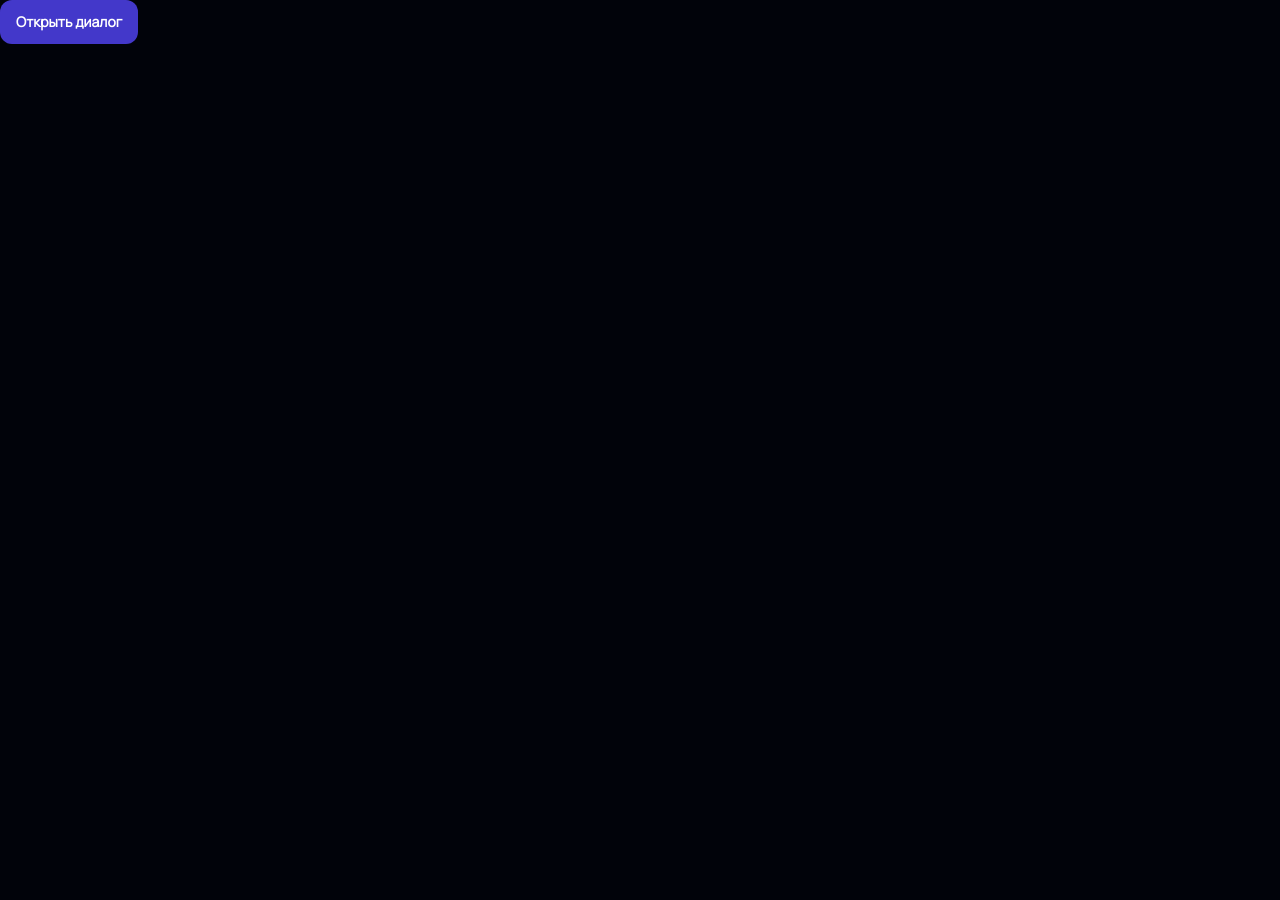
Test: Glowy primitive overlays and selection › closes a controlled dialog with Escape and returns focus to its trigger
Click the button "Открыть диалог" at (69, 22), box [0, 0, 138, 44]
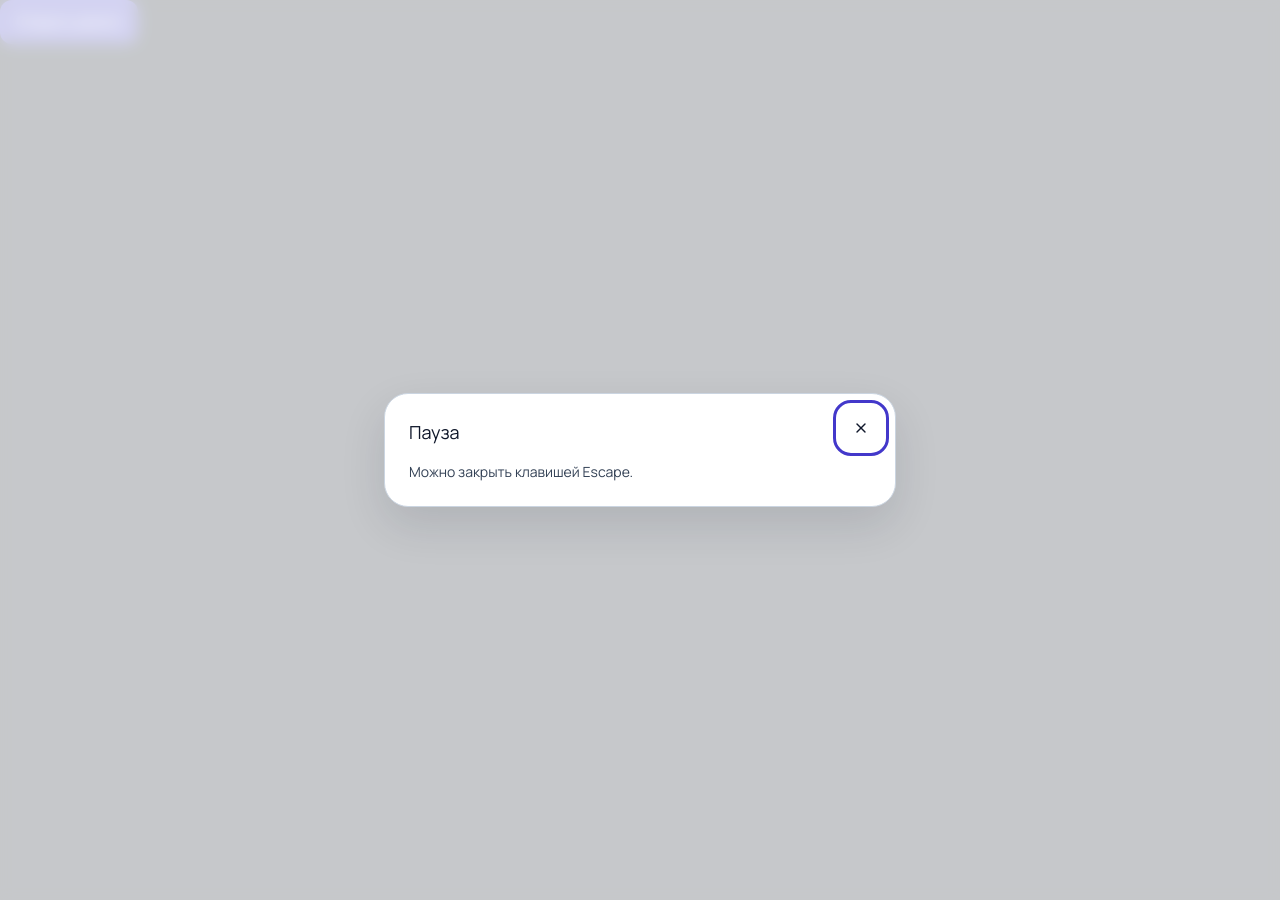
Expected: the dialog "Пауза" is shown, [384, 393, 896, 507]
Press Escape
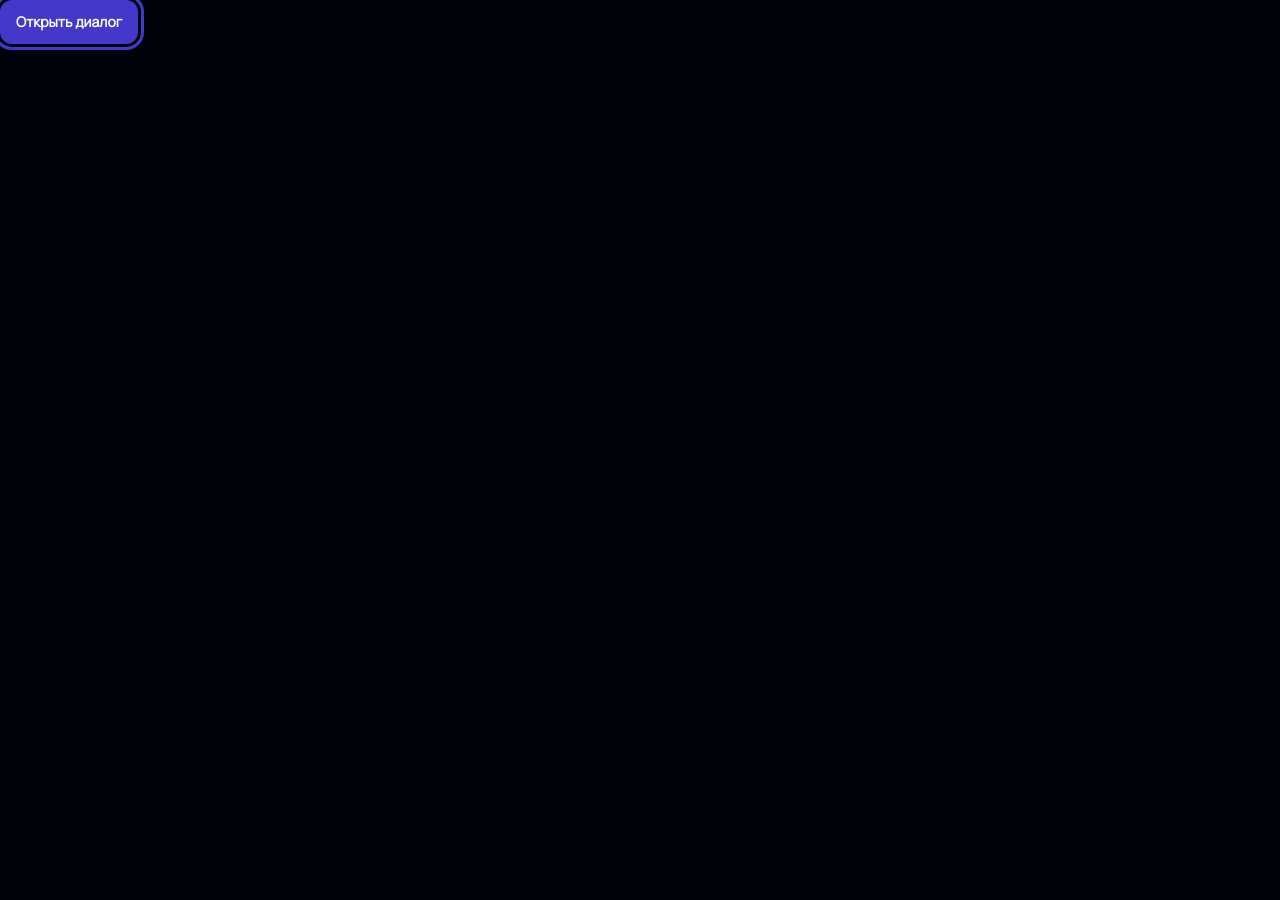
Expected: the heading "Пауза" is gone
